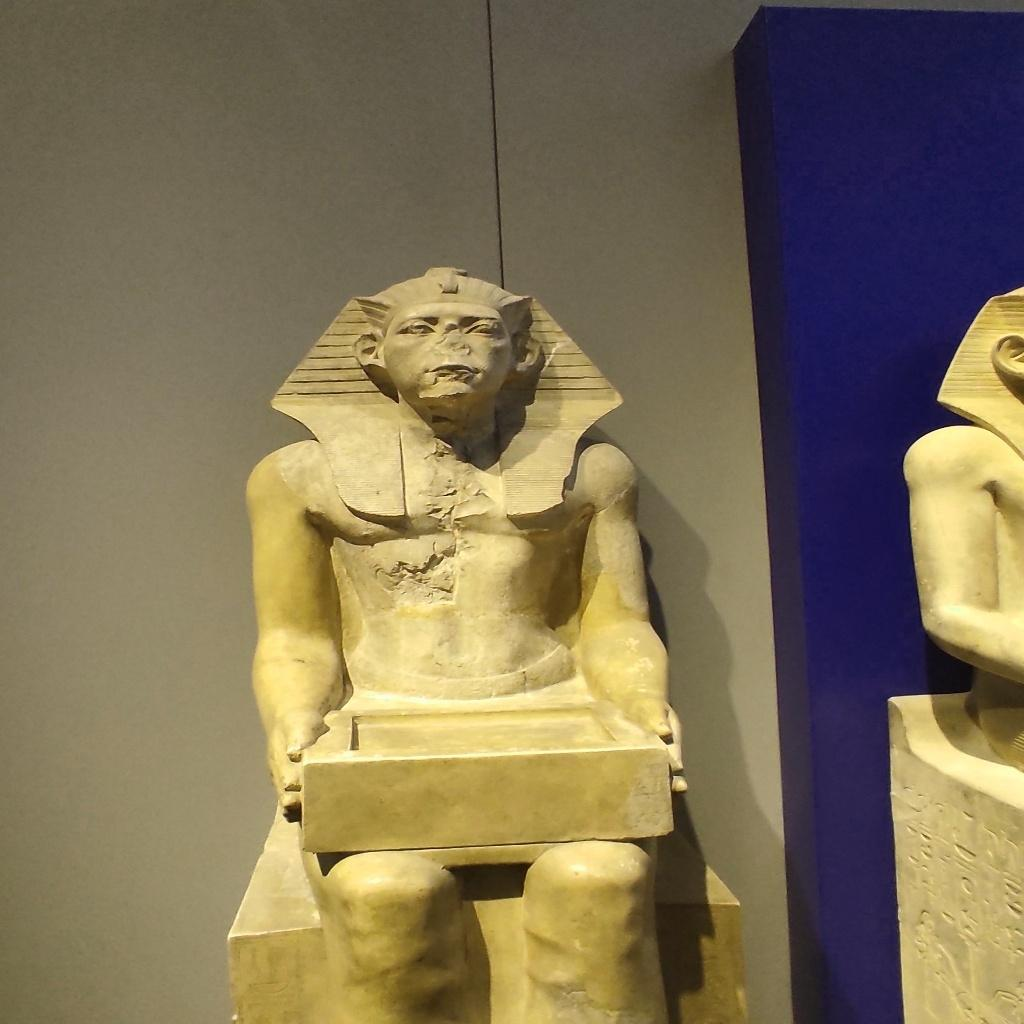Amenhotep III with Plate: (244, 258, 668, 1024)
